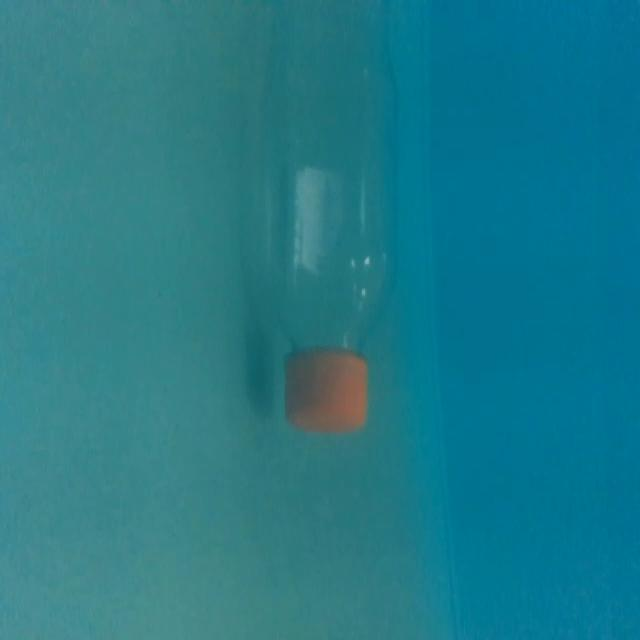plastic bottle: (239, 0, 410, 439)
